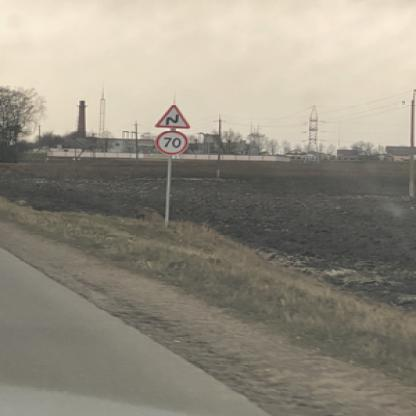speedlimit: (152, 129, 186, 155)
